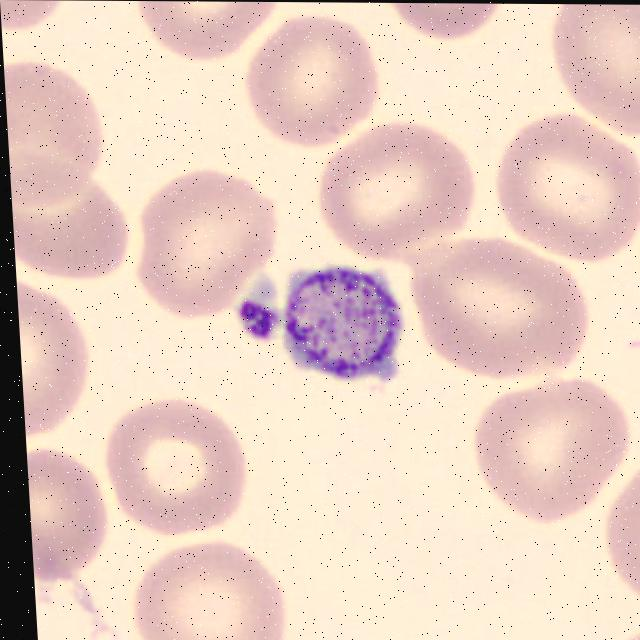platelets: (282, 267, 409, 402), (228, 299, 283, 351)
rbc: (296, 126, 495, 272), (464, 370, 640, 529), (408, 249, 594, 389), (126, 165, 282, 322), (479, 122, 640, 269), (101, 396, 260, 538), (231, 13, 391, 145), (3, 58, 107, 225), (124, 542, 300, 640), (10, 164, 149, 281), (17, 279, 99, 451), (539, 4, 640, 136), (27, 450, 107, 593), (136, 1, 284, 72), (383, 3, 504, 56), (602, 463, 640, 610), (0, 0, 70, 47), (609, 619, 640, 640)
